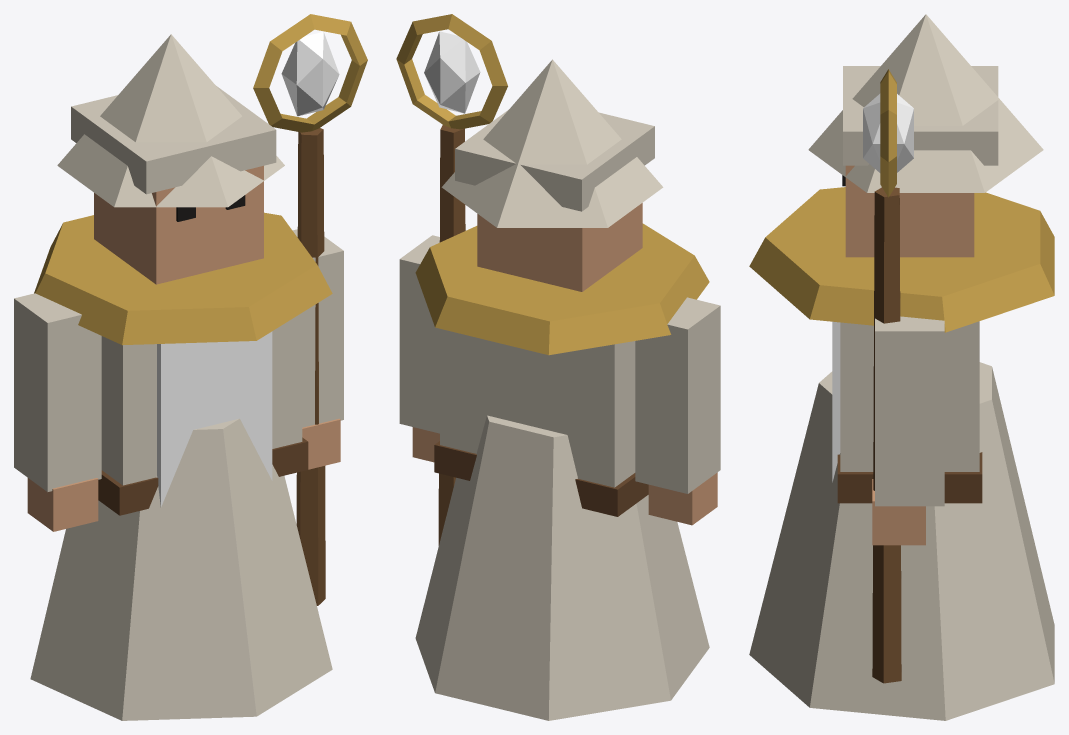
Rendered from healer.glb.
The picture shows the model from 3 angles, left to right: view 1: azimuth 30°, elevation 25°; view 2: azimuth 150°, elevation 25°; view 3: azimuth 270°, elevation 25°; orthographic projection. The views are drawn at different scales.
Parts seen in each view (by area): view 1: body, armL, weapon, armR; view 2: body, armL, weapon, armR; view 3: body, armR, weapon.
Boxes of the visible parts, <box> form: body: <box>30,34,332,720</box>; armL: <box>14,293,101,531</box>; weapon: <box>253,14,367,605</box>; armR: <box>292,229,343,469</box>; body: <box>415,59,709,720</box>; armL: <box>635,297,720,525</box>; weapon: <box>396,14,507,545</box>; armR: <box>399,235,439,462</box>; body: <box>749,14,1054,720</box>; armR: <box>872,316,944,545</box>; weapon: <box>863,69,913,683</box>.
Bounding box in the file's own units: 0.728 × 1.33 × 0.5703.
